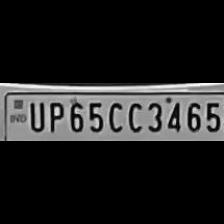3: (146, 97, 162, 132)
4: (164, 97, 181, 132)
5: (86, 97, 104, 132), (204, 97, 222, 132)
6: (66, 97, 84, 132), (183, 98, 201, 132)
C: (105, 97, 123, 132), (124, 99, 142, 133)
P: (46, 97, 64, 132)
U: (26, 98, 44, 132)
